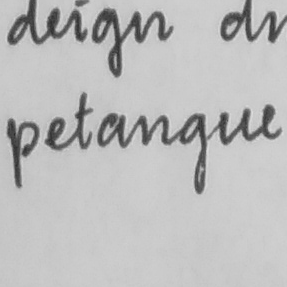a: (96, 108, 128, 152)
e: (258, 101, 285, 142), (43, 114, 70, 153)
n: (137, 111, 172, 148)
p: (4, 115, 41, 190)
q: (175, 110, 210, 196)
t: (71, 90, 95, 151)
u: (214, 106, 254, 148)
